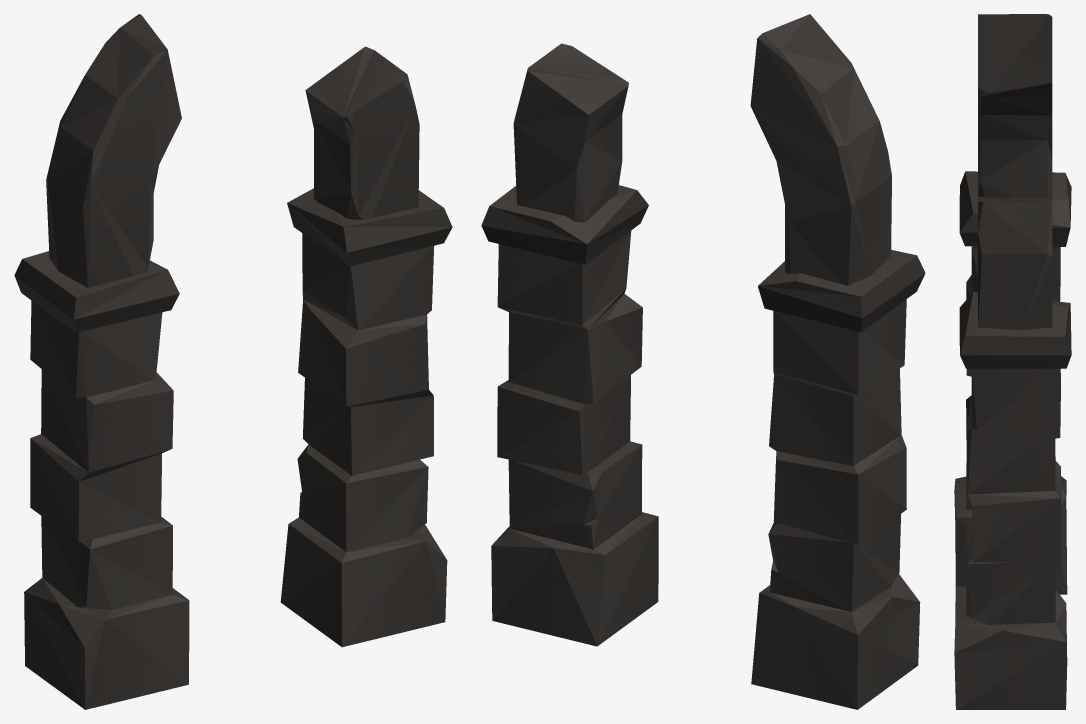
The model's file is Pillar_3B.fbx.
3 renders of one model, left to right at view 1: azimuth 30°, elevation 25°; view 2: azimuth 150°, elevation 25°; view 3: azimuth 270°, elevation 25°, orthographic. The views are drawn at different scales.
Parts seen in each view (by area): view 1: polySurface546; view 2: polySurface546; view 3: polySurface546.
Boxes of the visible parts, box(x1,y1,x2,y2) form: polySurface546: box(14, 14, 452, 709); polySurface546: box(481, 14, 925, 709); polySurface546: box(954, 14, 1071, 709).
Size of the model in its own units: 541 by 865 by 158.
Materials: 1 (1 with a texture image).
